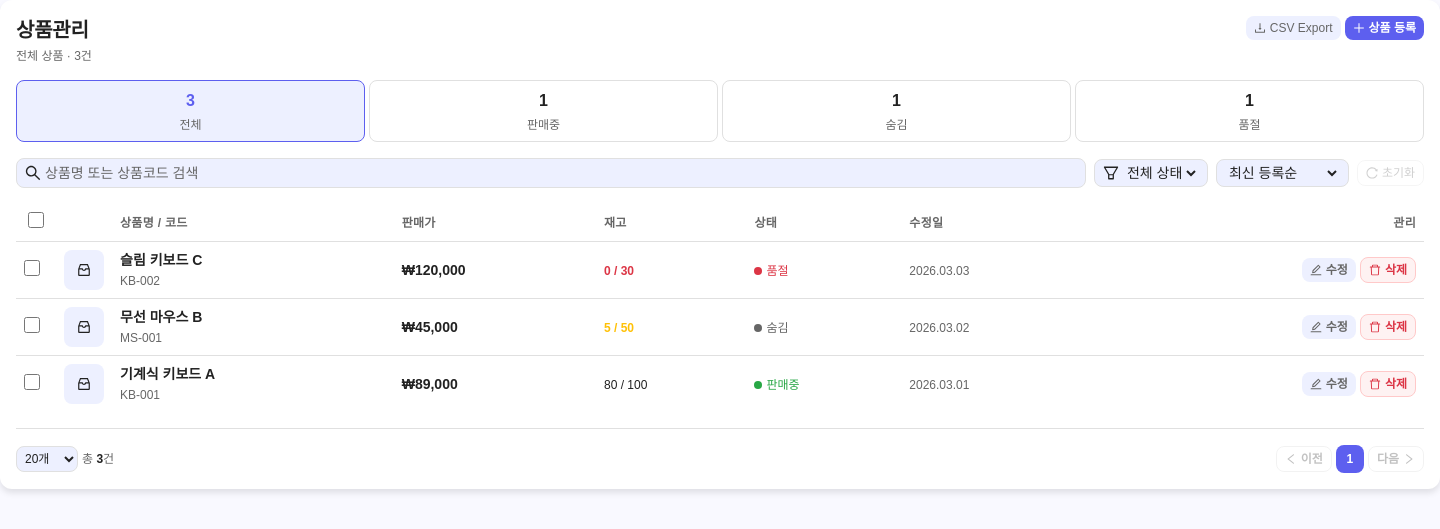
it: 체크박스 선택 › 전체 선택 체크박스 클릭 시 현재 페이지 모두 선택된다
Click the checkbox named "현재 페이지 전체 선택" at (36, 220), box [28,212,44,228]
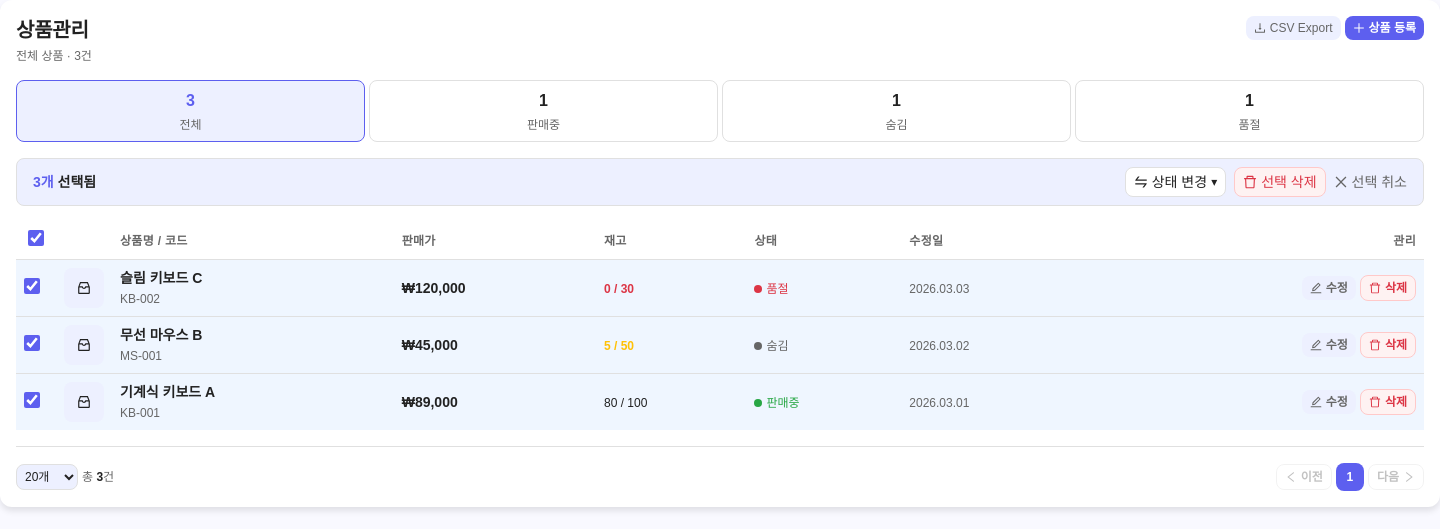
Check: the text "3개" is shown, box [33,174,54,190]
